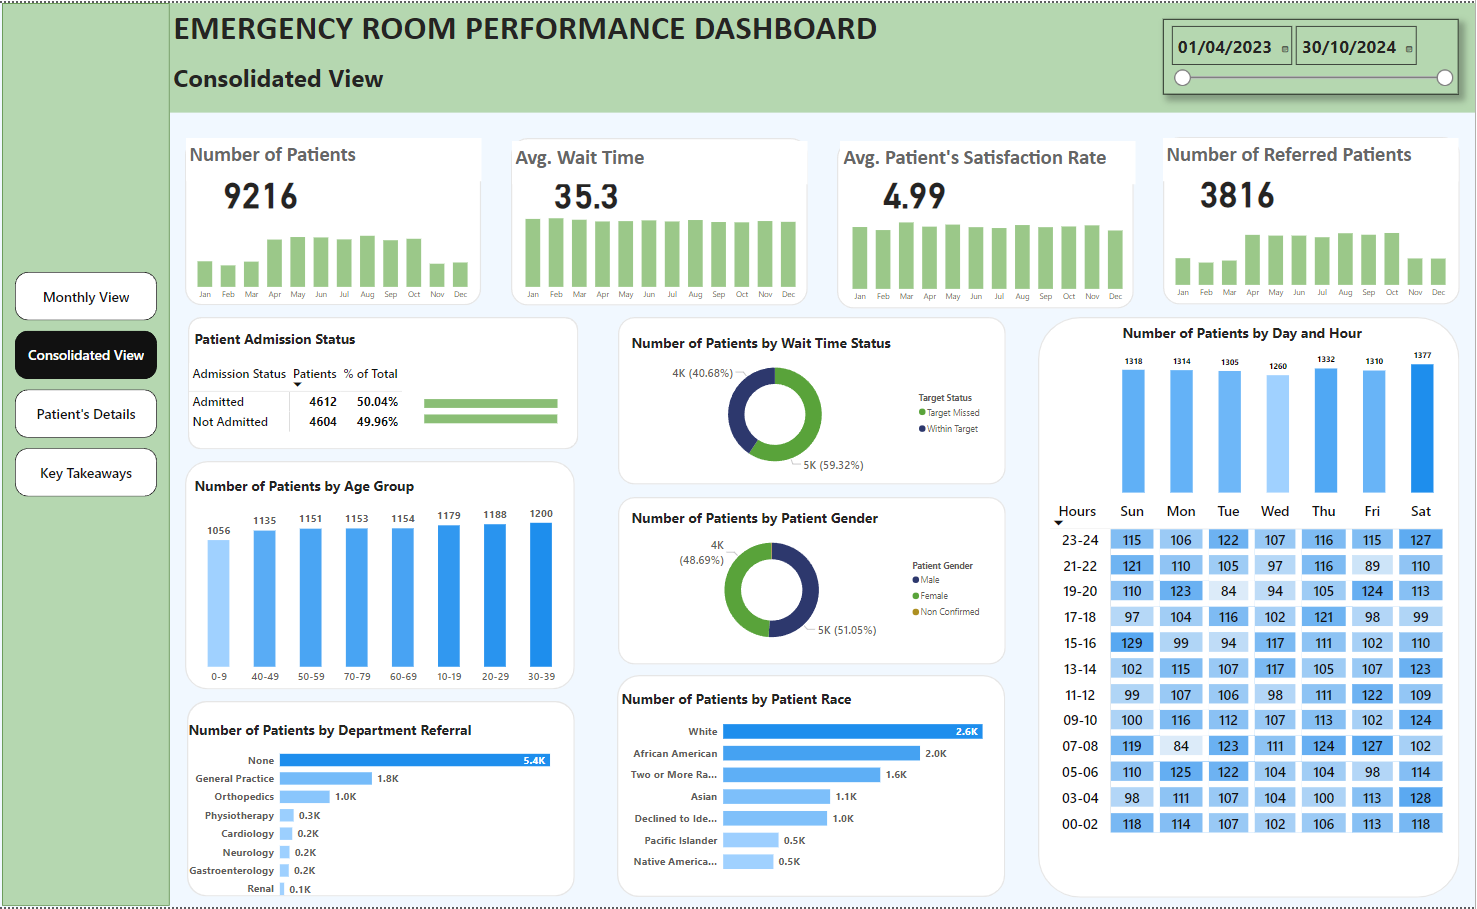

What the dashboard file says about the page in this screenshot:
{"tool":"powerbi","page":{"name":"Consolidated View","canvas":[2300,1400],"ordinal":1},"visuals":[{"type":"shape","box":[277.3,0,2022.7,169.9],"z":0},{"type":"shape","title":"Number of Patients","box":[301.2,209.4,459,259.3],"z":1000},{"type":"shape","box":[17.6,0,259.7,1399.2],"z":2000},{"type":"textbox","box":[277.3,0,1602.8,84.9],"z":3000},{"type":"textbox","box":[276.7,85,458.3,70],"z":4000},{"type":"card","title":"Number of Patients","fields":{"Values":["Hospital_1_Data.Number of Patients"]},"box":[302.9,256.4,230.8,72.1],"z":5000},{"type":"slicer","fields":{"Values":["Date Table.Date"]},"box":[1816.7,25,458.3,116.7],"z":6000},{"type":"textbox","box":[302.9,210,458.4,67.3],"z":7000},{"type":"columnChart","fields":{"Y":["Hospital_1_Data.Number of Patients"],"Category":["Date Table.Month Name"]},"box":[301.3,309.3,458,160],"z":8000},{"type":"shape","title":"Number of Patients","box":[805.6,210,460,259.7],"z":9000},{"type":"card","title":"Number of Patients","fields":{"Values":["Hospital_1_Data.Avg. Wait Time"]},"box":[807.8,256.4,230.8,72.1],"z":10000},{"type":"textbox","box":[807.8,213.2,458.4,67.3],"z":11000},{"type":"columnChart","fields":{"Y":["Hospital_1_Data.Avg. Wait Time"],"Category":["Date Table.Month Name"]},"box":[808.3,310,458,160],"z":12000},{"type":"shape","title":"Number of Patients","box":[1311,213.6,460,259.7],"z":13000},{"type":"textbox","box":[1315.9,213.2,458.4,67.3],"z":14000},{"type":"columnChart","fields":{"Y":["Hospital_1_Data.Avg. Patient's Satisfaction Rate"],"Category":["Date Table.Month Name"]},"box":[1315.9,312.5,458,160],"z":15000},{"type":"shape","title":"Number of Patients","box":[1816.3,207.1,460,259.7],"z":16000},{"type":"card","title":"Number of Patients","fields":{"Values":["Hospital_1_Data.Number of Referred Patients"]},"box":[1816.3,253.6,230.8,72.1],"z":17000},{"type":"textbox","box":[1816,210,458.4,67.3],"z":18000},{"type":"columnChart","fields":{"Y":["Hospital_1_Data.Number of Referred Patients"],"Category":["Date Table.Month Name"]},"box":[1816,306.1,458,160],"z":19000},{"type":"card","title":"Number of Patients","fields":{"Values":["Hospital_1_Data.Avg. Patient's Satisfaction Rate"]},"box":[1315.9,256.4,230.8,72.1],"z":20000},{"type":"shape","title":"Number of Patients","box":[304.8,487.1,605,205.3],"z":21000},{"type":"pivotTable","fields":{"Rows":["Hospital_1_Data.Admission Status"],"Values":["Hospital_1_Data.Number of Patients1","Hospital_1_Data.Number of Patients"]},"box":[301.8,553,441.1,142.5],"z":22000},{"type":"barChart","fields":{"Category":["Hospital_1_Data.Admission Status"],"Y":["Hospital_1_Data.Number of Patients"]},"box":[666.3,589.7,278.8,81.2],"z":23000},{"type":"textbox","box":[309.4,500.9,424.3,39.8],"z":24000},{"type":"shape","title":"Number of Patients","box":[301.3,710,604.3,354.2],"z":25000},{"type":"shape","title":"Number of Patients","box":[304.5,1081.9,601,302.9],"z":26000},{"type":"textbox","box":[309.3,727.7,402.3,38.5],"z":27000},{"type":"columnChart","fields":{"Category":["Hospital_1_Data.Age Groups"],"Y":["Hospital_1_Data.Number of Patients"]},"box":[302.9,766.1,602.6,298.1],"z":28000},{"type":"clusteredBarChart","fields":{"Category":["Hospital_1_Data.Department Referral"],"Y":["Hospital_1_Data.Number of Patients"]},"box":[301.3,1110.7,599.4,288.5],"z":29000},{"type":"shape","title":"Number of Patients","box":[971.3,766.1,601,259.7],"z":30000},{"type":"shape","title":"Number of Patients","box":[971.3,487.2,601,259.7],"z":31000},{"type":"donutChart","fields":{"Category":["Hospital_1_Data.Patient Gender"],"Y":["Hospital_1_Data.Number of Patients"]},"box":[987.3,782.2,559.4,226],"z":32000},{"type":"donutChart","title":"Number of Patients by Wait Time Status","fields":{"Category":["Hospital_1_Data.Target Status"],"Y":["Hospital_1_Data.Number of Patients"]},"box":[987.3,511.3,559.4,224.4],"z":33000},{"type":"shape","title":"Number of Patients","box":[970.5,1041,601.6,344.3],"z":34000},{"type":"clusteredBarChart","fields":{"Category":["Hospital_1_Data.Patient Race"],"Y":["Hospital_1_Data.Number of Patients"]},"box":[972.1,1063.9,600,298.4],"z":35000},{"type":"shape","title":"Number of Patients","box":[1623.3,486.7,653.3,900],"z":36000},{"type":"pivotTable","fields":{"Rows":["Hospital_1_Data.Waittime Interval"],"Columns":["Date Table.Day Name"],"Values":["Hospital_1_Data.Number of Patients"]},"box":[1636.1,765.6,626.2,585.2],"z":37000},{"type":"columnChart","title":"Number of Patients by Day and Hour","fields":{"Category":["Date Table.Day Name"],"Y":["Hospital_1_Data.Number of Patients"]},"box":[1747.5,496.7,495.1,268.9],"z":38000},{"type":"pageNavigator","box":[36.7,416.7,220,350],"z":40000}]}

Visuals, with their boxes in screenshot pixels (x1, y1, x2, y2), scaled from the page's 2300x1400 canvas onto the 1477x909 screenshot:
shape: x1=178 y1=0 x2=1476 y2=110
"Number of Patients" shape: x1=193 y1=136 x2=488 y2=304
shape: x1=11 y1=0 x2=178 y2=908
textbox: x1=178 y1=0 x2=1207 y2=55
textbox: x1=178 y1=55 x2=472 y2=101
"Number of Patients" card: x1=195 y1=166 x2=343 y2=213
slicer - Date Table.Date: x1=1167 y1=16 x2=1461 y2=92
textbox: x1=195 y1=136 x2=489 y2=180
columnChart - Hospital_1_Data.Number of Patients x Date Table.Month Name: x1=193 y1=201 x2=488 y2=305
"Number of Patients" shape: x1=517 y1=136 x2=813 y2=305
"Number of Patients" card: x1=519 y1=166 x2=667 y2=213
textbox: x1=519 y1=138 x2=813 y2=182
columnChart - Hospital_1_Data.Avg. Wait Time x Date Table.Month Name: x1=519 y1=201 x2=813 y2=305
"Number of Patients" shape: x1=842 y1=139 x2=1137 y2=307
textbox: x1=845 y1=138 x2=1139 y2=182
columnChart - Hospital_1_Data.Avg. Patient's Satisfaction Rate x Date Table.Month Name: x1=845 y1=203 x2=1139 y2=307
"Number of Patients" shape: x1=1166 y1=134 x2=1462 y2=303
"Number of Patients" card: x1=1166 y1=165 x2=1315 y2=211
textbox: x1=1166 y1=136 x2=1461 y2=180
columnChart - Hospital_1_Data.Number of Referred Patients x Date Table.Month Name: x1=1166 y1=199 x2=1460 y2=303
"Number of Patients" card: x1=845 y1=166 x2=993 y2=213
"Number of Patients" shape: x1=196 y1=316 x2=584 y2=450
pivotTable - Hospital_1_Data.Admission Status x Hospital_1_Data.Number of Patients1: x1=194 y1=359 x2=477 y2=452
barChart - Hospital_1_Data.Admission Status x Hospital_1_Data.Number of Patients: x1=428 y1=383 x2=607 y2=436
textbox: x1=199 y1=325 x2=471 y2=351
"Number of Patients" shape: x1=193 y1=461 x2=582 y2=691
"Number of Patients" shape: x1=196 y1=702 x2=581 y2=899
textbox: x1=199 y1=472 x2=457 y2=497
columnChart - Hospital_1_Data.Age Groups x Hospital_1_Data.Number of Patients: x1=195 y1=497 x2=581 y2=691
clusteredBarChart - Hospital_1_Data.Department Referral x Hospital_1_Data.Number of Patients: x1=193 y1=721 x2=578 y2=908
"Number of Patients" shape: x1=624 y1=497 x2=1010 y2=666
"Number of Patients" shape: x1=624 y1=316 x2=1010 y2=485
donutChart - Hospital_1_Data.Patient Gender x Hospital_1_Data.Number of Patients: x1=634 y1=508 x2=993 y2=655
"Number of Patients by Wait Time Status" donutChart: x1=634 y1=332 x2=993 y2=478
"Number of Patients" shape: x1=623 y1=676 x2=1010 y2=899
clusteredBarChart - Hospital_1_Data.Patient Race x Hospital_1_Data.Number of Patients: x1=624 y1=691 x2=1010 y2=885
"Number of Patients" shape: x1=1042 y1=316 x2=1462 y2=900
pivotTable - Hospital_1_Data.Waittime Interval x Date Table.Day Name: x1=1051 y1=497 x2=1453 y2=877
"Number of Patients by Day and Hour" columnChart: x1=1122 y1=323 x2=1440 y2=497
pageNavigator: x1=24 y1=271 x2=165 y2=498
